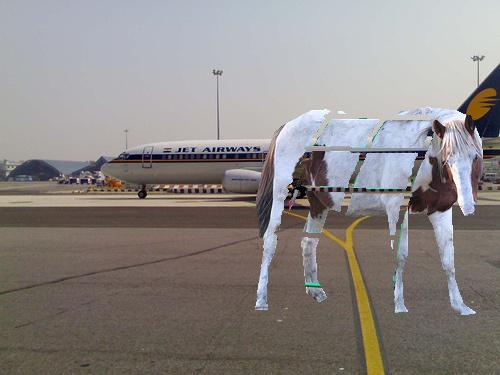tampered: (256, 108, 483, 315)
